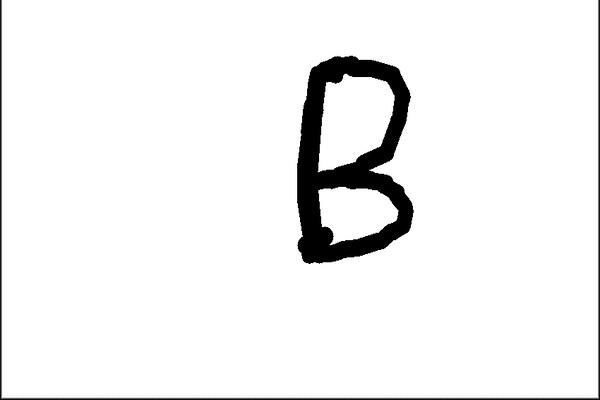B: (286, 48, 418, 265)
